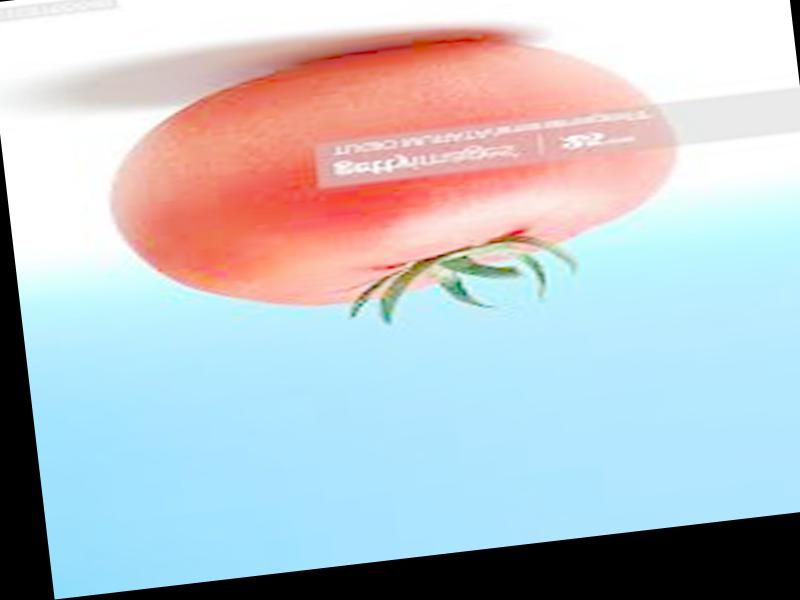Tomato: (100, 19, 693, 327)
